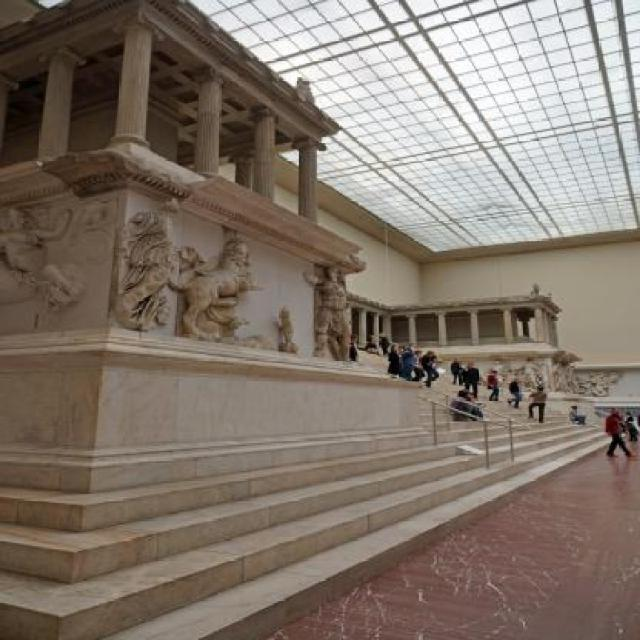stair: (0, 346, 628, 640)
